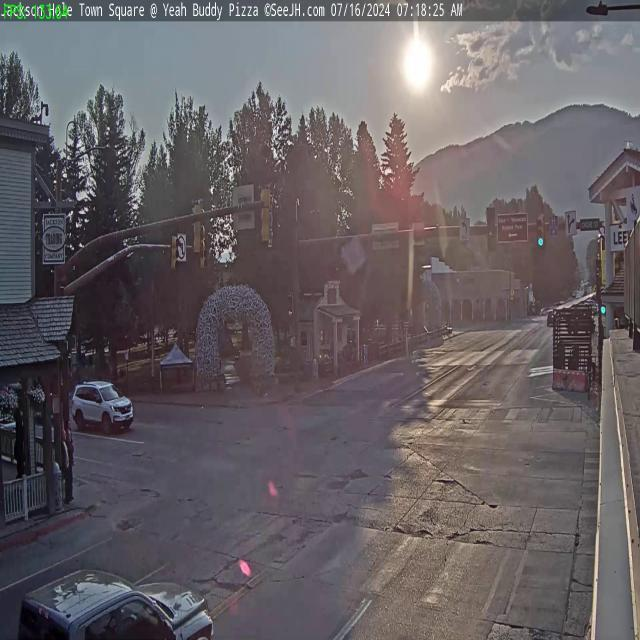pickup: (11, 562, 214, 640)
suv: (68, 378, 134, 436)
traffic light: (260, 184, 274, 246), (191, 199, 204, 256), (486, 208, 496, 254), (171, 234, 179, 274), (537, 214, 546, 248)
